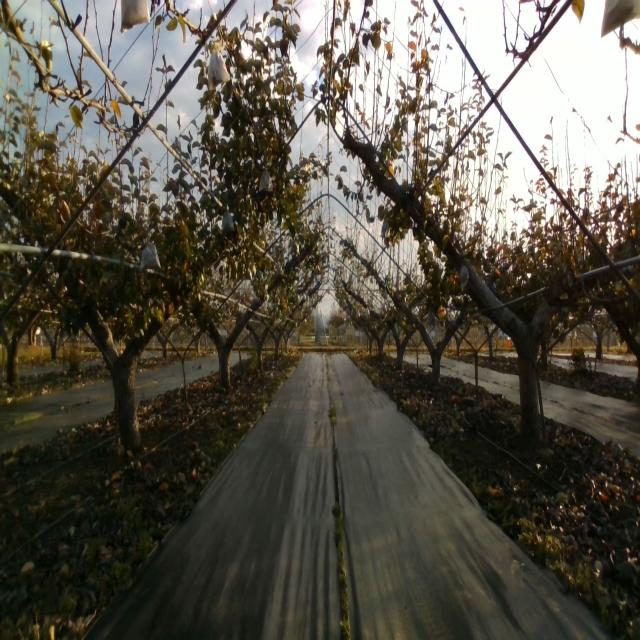pearbags: (207, 41, 230, 91), (140, 234, 161, 272), (221, 204, 235, 236), (258, 166, 273, 193), (459, 265, 469, 292), (380, 216, 390, 238)
